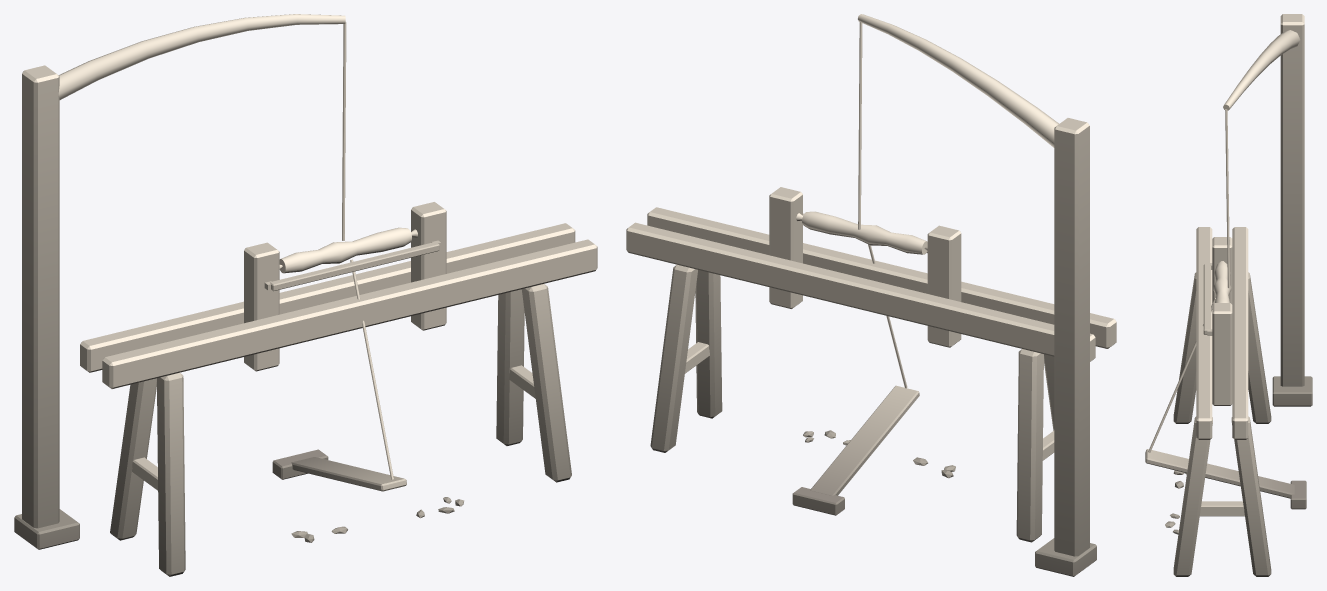
Rendered from SM_VKI_Prop_PoleLathe.fbx.
The picture shows the model from 3 angles, left to right: view 1: azimuth 30°, elevation 25°; view 2: azimuth 150°, elevation 25°; view 3: azimuth 270°, elevation 25°; orthographic projection. The views are drawn at different scales.
Visible parts, largest first — view 1: SM_VKI_Prop_PoleLathe.001; view 2: SM_VKI_Prop_PoleLathe.001; view 3: SM_VKI_Prop_PoleLathe.001.
Boxes of the visible parts, x1,y1,x2,y2 form: SM_VKI_Prop_PoleLathe.001: [14, 14, 597, 576]; SM_VKI_Prop_PoleLathe.001: [626, 14, 1116, 576]; SM_VKI_Prop_PoleLathe.001: [1145, 14, 1312, 576].
Bounding box in the file's own units: 2.4 × 2.21 × 0.834.
